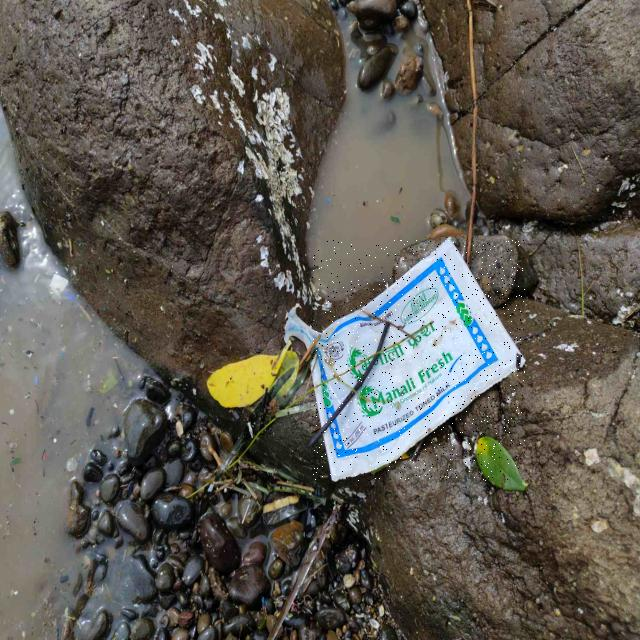wrapper: (312, 240, 525, 481)
